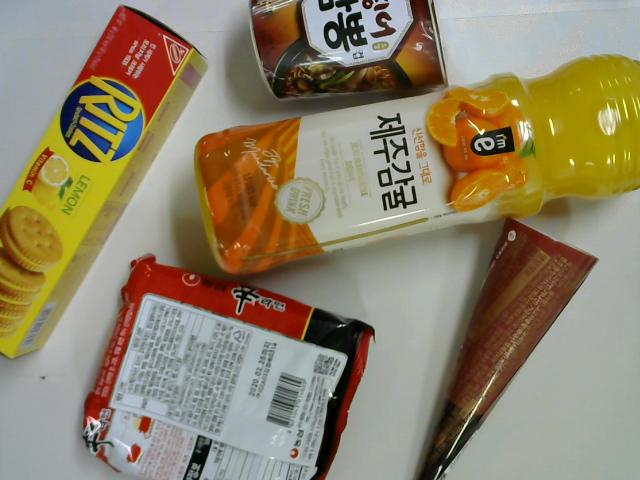GooGoo_Cone_CVS: (416, 214, 604, 480)
Jeju_Tangerine_1.5L: (192, 53, 640, 275)
Ojjam: (242, 1, 450, 95)
Ritz_Remon_96g: (1, 4, 209, 358)
Sinramen: (81, 252, 381, 480)
